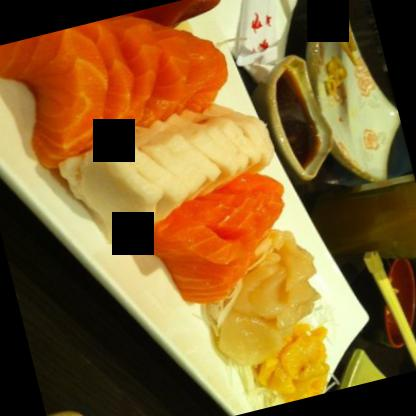salmon: (0, 0, 236, 176), (130, 172, 302, 315)
